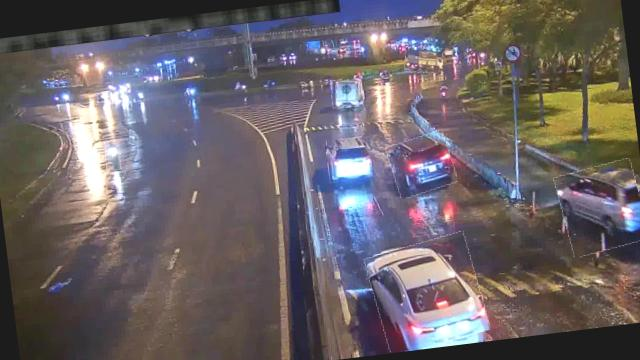Bike: (103, 139, 122, 171)
Bus: (329, 77, 364, 109)
Car: (365, 232, 488, 354), (555, 159, 640, 256), (386, 130, 456, 196), (325, 136, 374, 182)
Truck: (403, 43, 445, 76)
